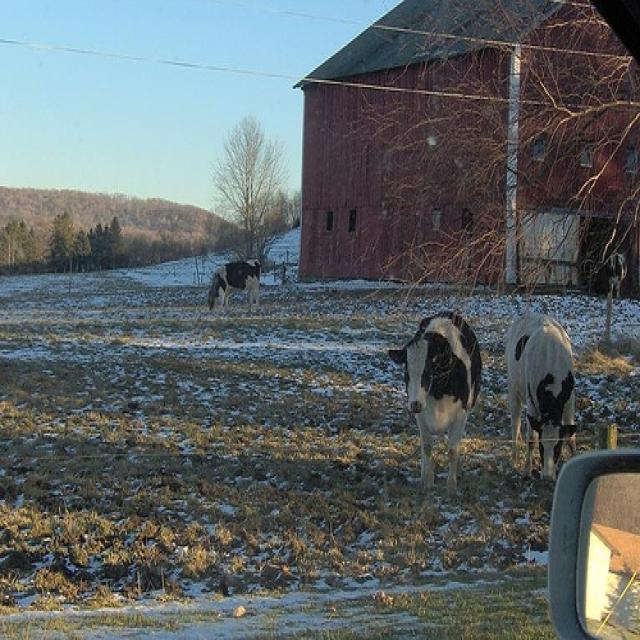cow: (389, 308, 485, 487), (508, 307, 577, 478), (208, 256, 262, 309)
